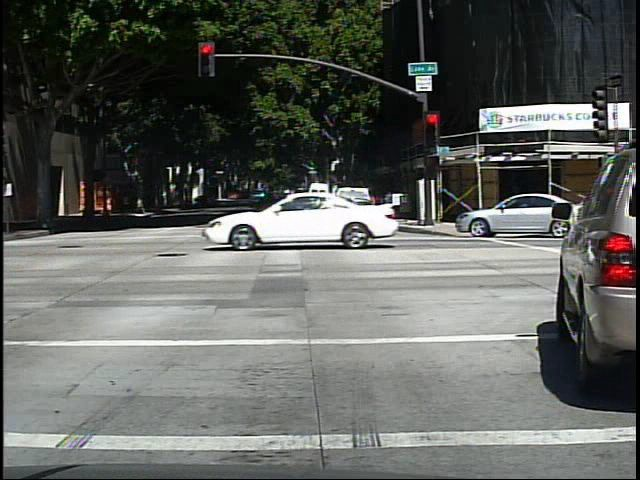person: (83, 186, 99, 220)
